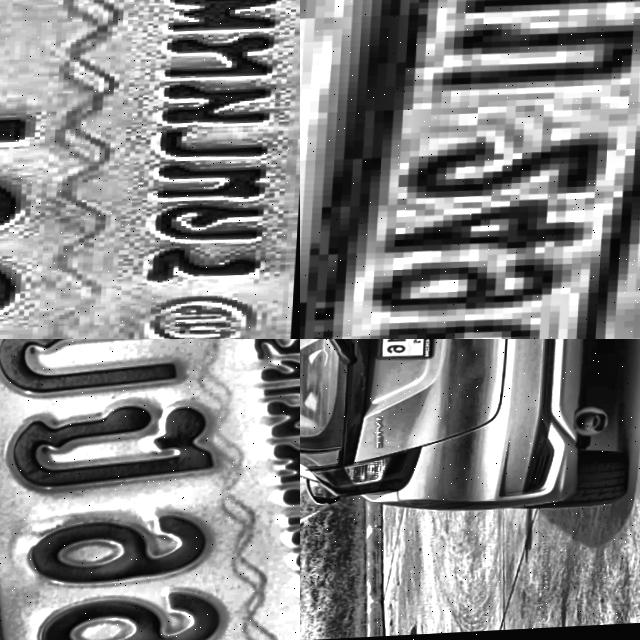license-plate: (300, 0, 640, 339), (0, 0, 300, 339), (0, 339, 300, 640), (372, 339, 442, 364)
